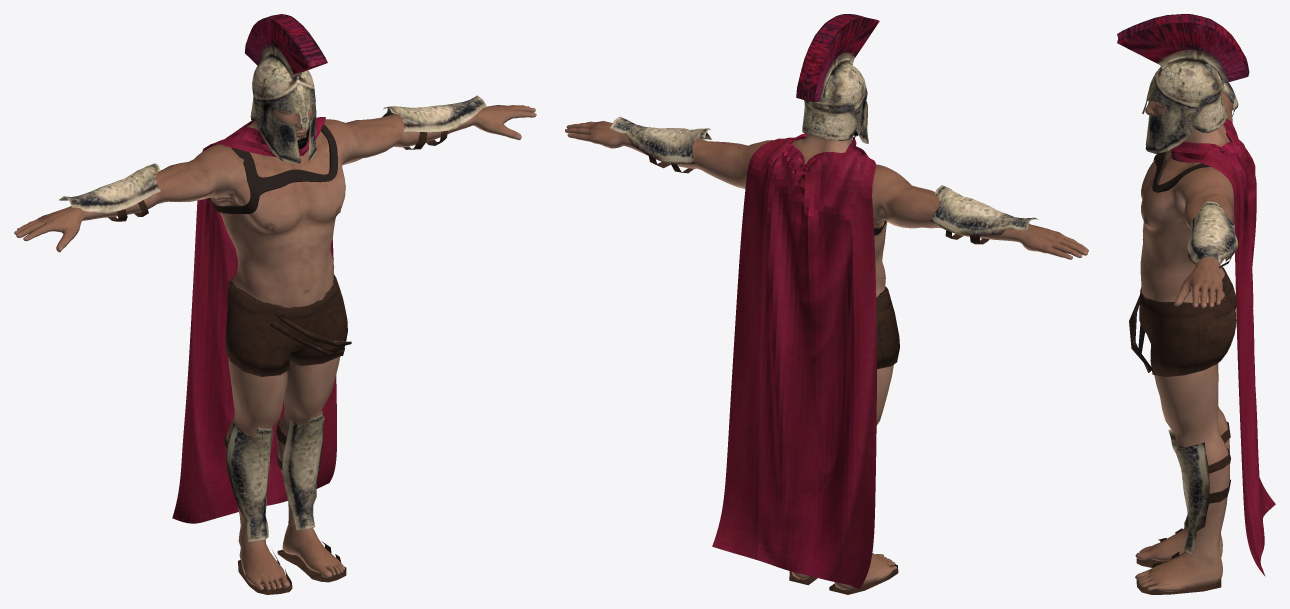
The model's file is Spartan.fbx.
3 views of the same model, side by side, from view 1: azimuth 30°, elevation 25°; view 2: azimuth 150°, elevation 25°; view 3: azimuth 270°, elevation 25° (orthographic).
Visible parts, largest first — view 1: Spartan_base.003; view 2: Spartan_base.003; view 3: Spartan_base.003.
Part boxes in pixels (<box>): Spartan_base.003: <box>14,14,536,594</box>; Spartan_base.003: <box>565,14,1088,594</box>; Spartan_base.003: <box>1117,14,1275,594</box>.
Size of the model in its own units: 662 by 670 by 174.
Materials: 1 (1 with a texture image).
